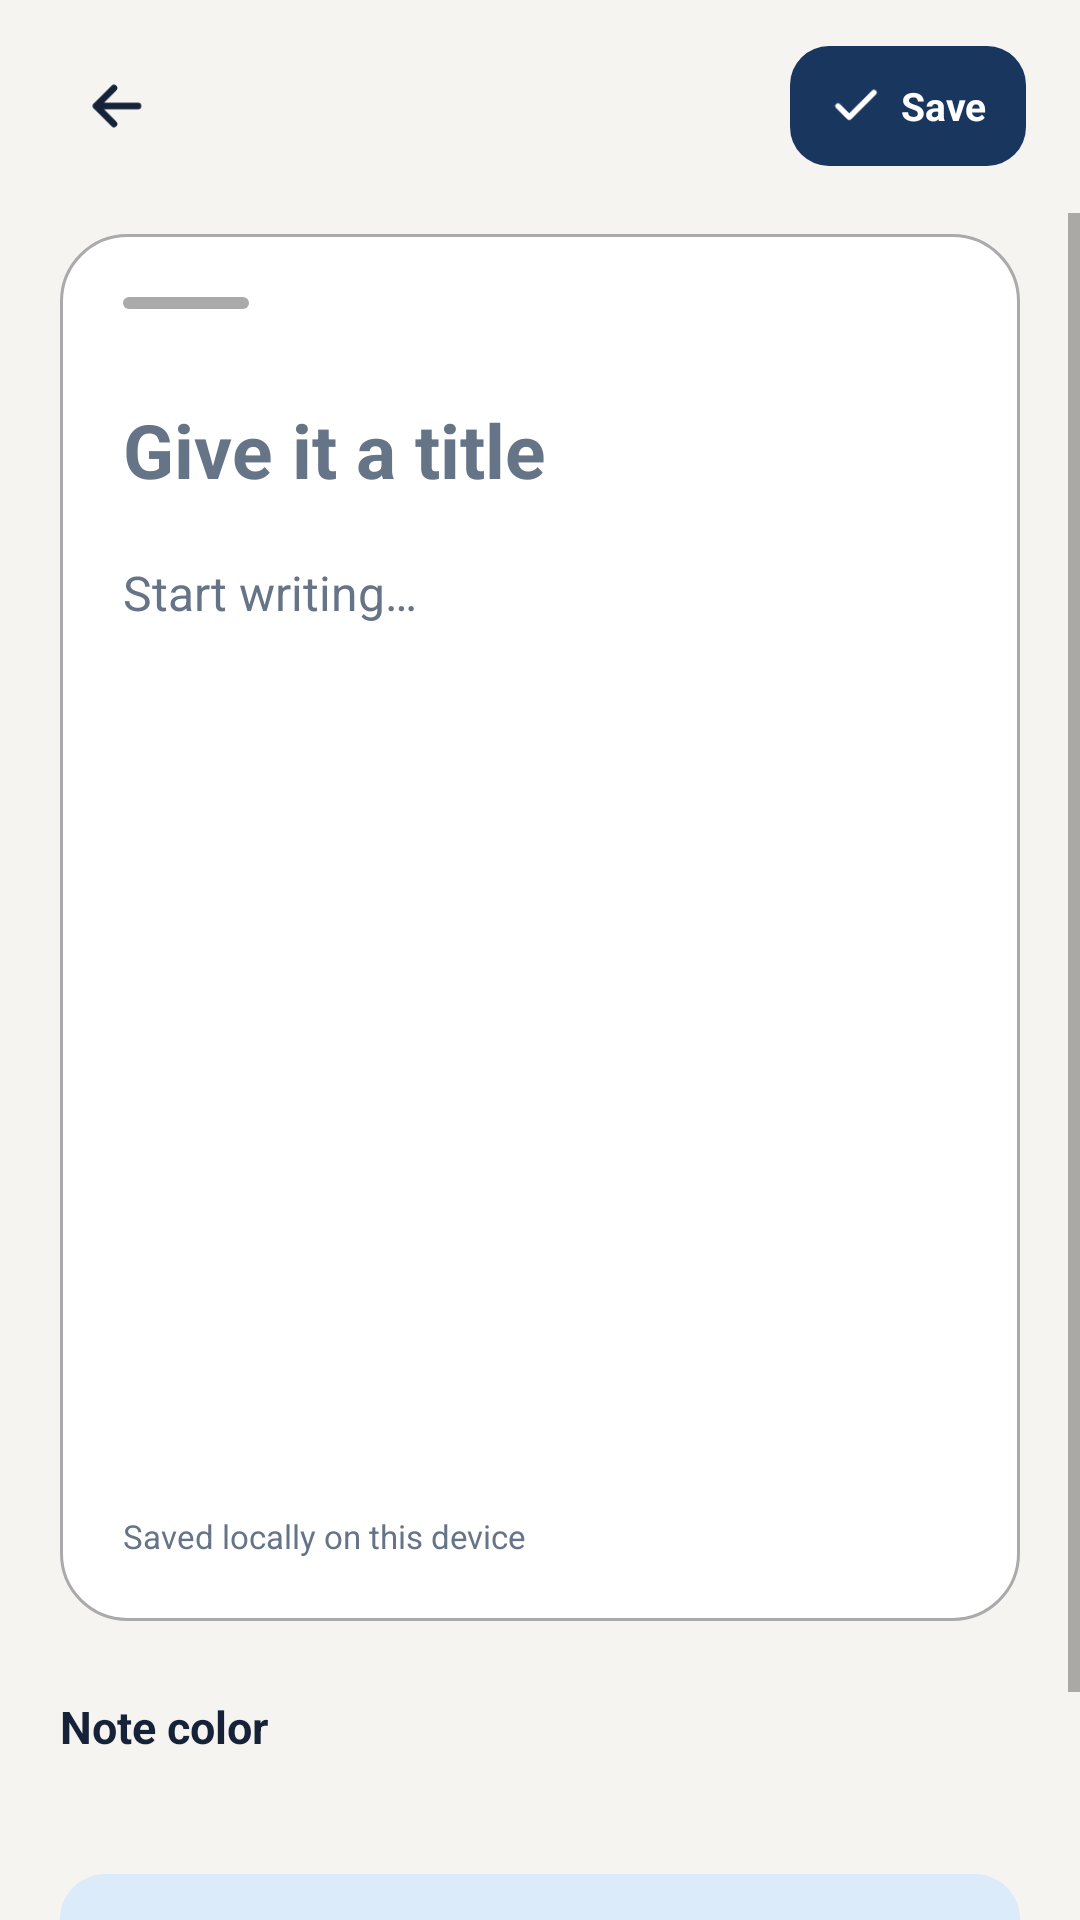

Icons on this 1080px×1920px Android screen, each with its box as (x1, y1, x2, y2):
check: (835, 89, 878, 121)
